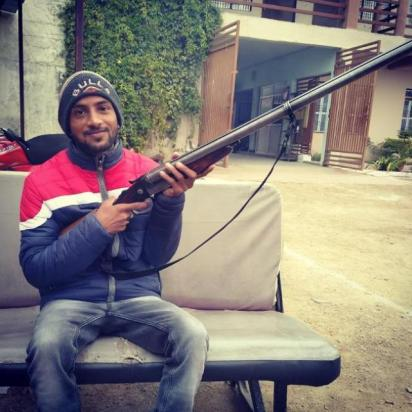Gun: (53, 39, 411, 260)
